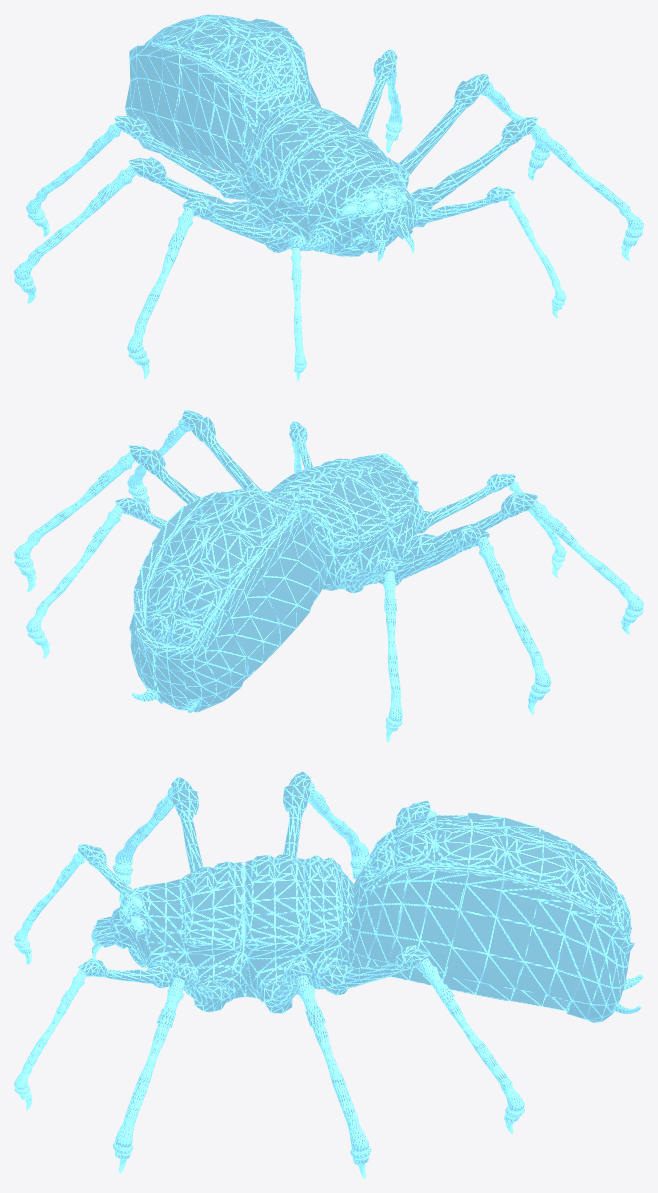
Rendered from spider.glb.
The picture shows the model from 3 angles, top to bottom: view 1: azimuth 30°, elevation 25°; view 2: azimuth 150°, elevation 25°; view 3: azimuth 270°, elevation 25°; orthographic projection. The views are drawn at different scales.
Parts seen in each view (by area): view 1: body, legs; view 2: body, legs; view 3: body, legs.
Part boxes in pixels (left/top/right/bottom): body: left=125, top=14, right=419, bottom=261; legs: left=14, top=49, right=643, bottom=381; body: left=129, top=453, right=423, bottom=713; legs: left=14, top=410, right=643, bottom=742; body: left=91, top=812, right=643, bottom=1022; legs: left=14, top=771, right=524, bottom=1178.
Size of the model in its own units: 10.08 by 3.3 by 8.95.
2 materials, 2 textured.
